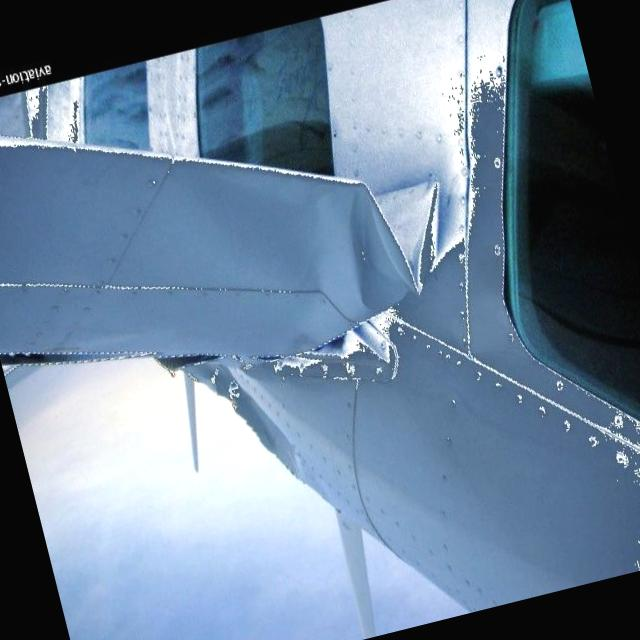dent: (328, 154, 473, 322)
